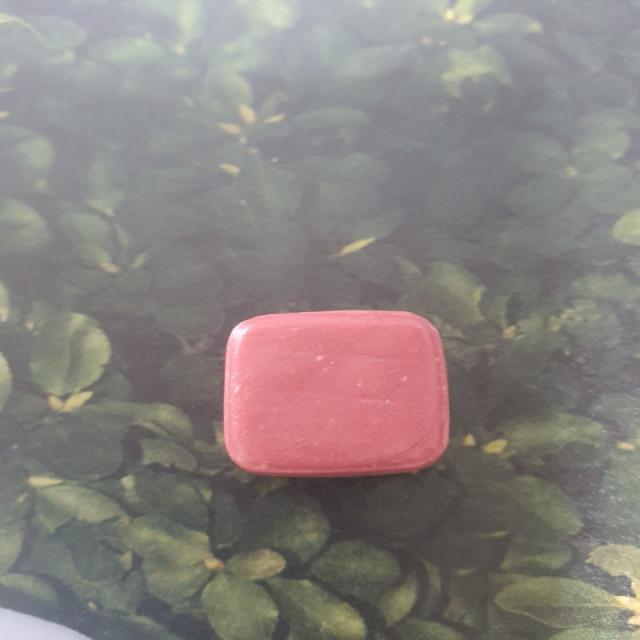pill: (201, 278, 468, 487)
